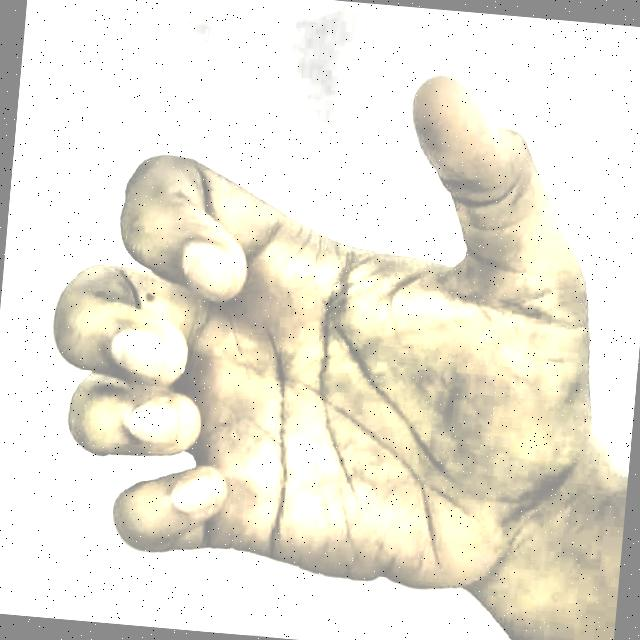Ja: (19, 8, 633, 640)
